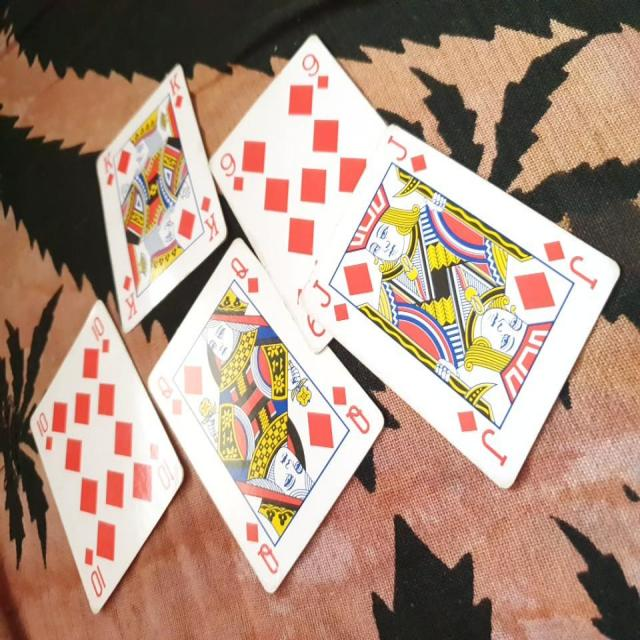10 Diamonds: (28, 298, 188, 616)
9 Diamonds: (208, 34, 388, 349)
J Diamonds: (293, 122, 620, 493)
K Diamonds: (92, 60, 229, 334)
Q Diamonds: (145, 236, 386, 594)
